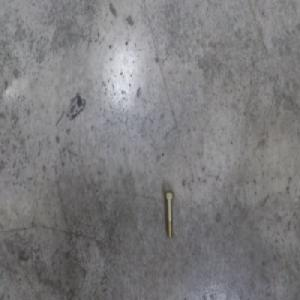Bolt: (163, 188, 175, 238)
